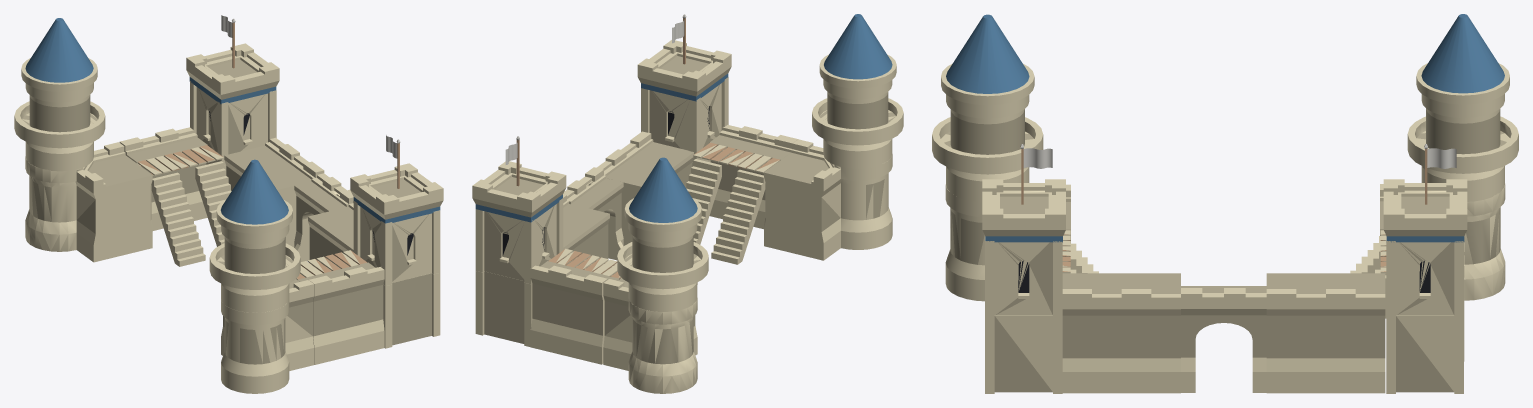
Rendered from 4level.obj.
3 renders of one model, left to right at view 1: azimuth 30°, elevation 25°; view 2: azimuth 150°, elevation 25°; view 3: azimuth 270°, elevation 25°, orthographic. The views are drawn at different scales.
Parts seen in each view (by area): view 1: wallCornerHalfTower.002_wallCornerHalfTower.006, wallCornerHalfTower.003_wallCornerHalfTower.007, wallNarrowWood.003_wallNarrowWood.012, towerBalcony.002_towerBalcony.006, towerBalcony.003_towerBalcony.007, towerSquareMidWindows.028_towerSquareMidWindows.040, towerSquareMidWindows.031_towerSquareMidWindows.043, wallNarrowWood.004_wallNarrowWood.013, towerSquareTopColor.012_towerSquareTopColor.024, towerSquareTopColor.013_towerSquareTopColor.025, towerSquareMid.013_towerSquareMid.043, towerTopRoof.003_towerTopRoof.007 (+6 smaller); view 2: wallCornerHalfTower.003_wallCornerHalfTower.007, wallCornerHalfTower.002_wallCornerHalfTower.006, wallNarrowWood.004_wallNarrowWood.013, towerBalcony.003_towerBalcony.007, towerBalcony.002_towerBalcony.006, towerSquareMidWindows.031_towerSquareMidWindows.043, towerSquareMidWindows.028_towerSquareMidWindows.040, wallNarrowWood.003_wallNarrowWood.012, towerSquareTopColor.012_towerSquareTopColor.024, towerSquareTopColor.013_towerSquareTopColor.025, towerTopRoof.003_towerTopRoof.007, towerTopRoof.002_towerTopRoof.006 (+7 smaller); view 3: wallHalf.004_wallHalf.016, wallHalf.001_wallHalf.002_wallHalf.001_wallHalf.007, towerBalcony.003_towerBalcony.007, towerBalcony.002_towerBalcony.006, towerSquareMid.034_towerSquareMid.044, towerSquareMid.013_towerSquareMid.043, towerSquareMidWindows.028_towerSquareMidWindows.040, towerSquareMidWindows.031_towerSquareMidWindows.043, wallNarrowGate.006_wallNarrowGate.012, towerTopRoof.002_towerTopRoof.006, towerTopRoof.003_towerTopRoof.007, towerSquareTopColor.012_towerSquareTopColor.024 (+6 smaller).
Part boxes in pixels (x1,y1,x2,y2): wallCornerHalfTower.002_wallCornerHalfTower.006: [25, 142, 152, 262]; wallCornerHalfTower.003_wallCornerHalfTower.007: [221, 279, 313, 393]; wallNarrowWood.003_wallNarrowWood.012: [296, 250, 384, 364]; towerBalcony.002_towerBalcony.006: [14, 83, 105, 171]; towerBalcony.003_towerBalcony.007: [209, 224, 300, 312]; towerSquareMidWindows.028_towerSquareMidWindows.040: [353, 201, 440, 285]; towerSquareMidWindows.031_towerSquareMidWindows.043: [190, 81, 276, 165]; wallNarrowWood.004_wallNarrowWood.013: [119, 127, 223, 230]; towerSquareTopColor.012_towerSquareTopColor.024: [186, 43, 279, 104]; towerSquareTopColor.013_towerSquareTopColor.025: [350, 163, 443, 223]; towerSquareMid.013_towerSquareMid.043: [383, 273, 440, 348]; towerTopRoof.003_towerTopRoof.007: [216, 159, 292, 233]; wallCornerHalfTower.003_wallCornerHalfTower.007: [764, 139, 892, 260]; wallCornerHalfTower.002_wallCornerHalfTower.006: [603, 278, 697, 393]; wallNarrowWood.004_wallNarrowWood.013: [530, 248, 621, 364]; towerBalcony.003_towerBalcony.007: [812, 79, 903, 168]; towerBalcony.002_towerBalcony.006: [617, 223, 708, 311]; towerSquareMidWindows.031_towerSquareMidWindows.043: [475, 198, 563, 284]; towerSquareMidWindows.028_towerSquareMidWindows.040: [641, 77, 728, 162]; wallNarrowWood.003_wallNarrowWood.012: [693, 125, 798, 229]; towerSquareTopColor.012_towerSquareTopColor.024: [472, 161, 566, 222]; towerSquareTopColor.013_towerSquareTopColor.025: [637, 40, 731, 101]; towerTopRoof.003_towerTopRoof.007: [819, 14, 896, 88]; towerTopRoof.002_towerTopRoof.006: [624, 157, 701, 232]; wallHalf.004_wallHalf.016: [1266, 273, 1385, 393]; wallHalf.001_wallHalf.002_wallHalf.001_wallHalf.007: [1062, 273, 1180, 393]; towerBalcony.003_towerBalcony.007: [932, 94, 1043, 202]; towerBalcony.002_towerBalcony.006: [1407, 94, 1518, 201]; towerSquareMid.034_towerSquareMid.044: [1386, 315, 1463, 393]; towerSquareMid.013_towerSquareMid.043: [985, 315, 1062, 393]; towerSquareMidWindows.028_towerSquareMidWindows.040: [985, 236, 1062, 317]; towerSquareMidWindows.031_towerSquareMidWindows.043: [1386, 236, 1463, 317]; wallNarrowGate.006_wallNarrowGate.012: [1181, 286, 1266, 392]; towerTopRoof.002_towerTopRoof.006: [1416, 14, 1509, 104]; towerTopRoof.003_towerTopRoof.007: [941, 14, 1034, 105]; towerSquareTopColor.012_towerSquareTopColor.024: [1383, 179, 1467, 242].
Bounding box in the file's own units: 38.34 × 35.27 × 70.21.
